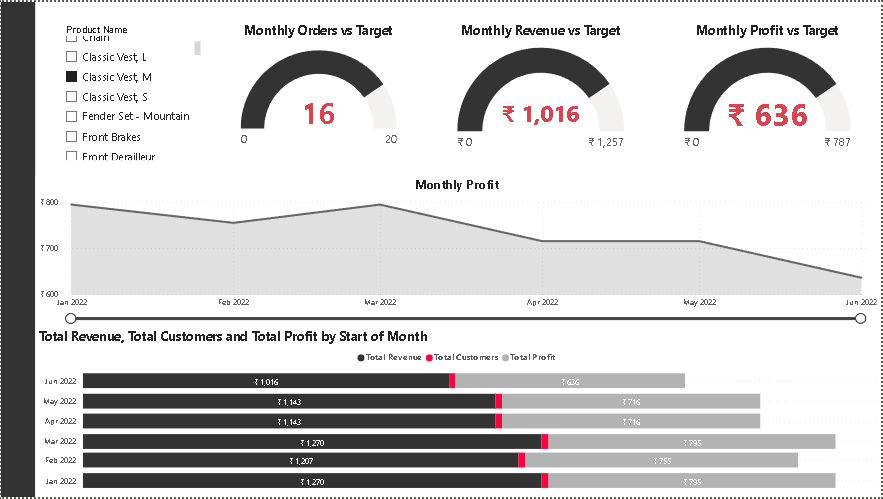

Layout of this report page (visuals, bound fields, positions):
{"tool":"powerbi","page":{"name":"Product Detail","canvas":[1280,720],"ordinal":2},"visuals":[{"type":"shape","box":[0,0,50,720],"z":0},{"type":"slicer","fields":{"Values":["Product Lookup.ProductName"]},"box":[81.5,26,213.2,208],"z":1},{"type":"gauge","title":"Monthly Orders vs Target","fields":{"Y":["Measure Table.Total Order"],"MaxValue":["Measure Table.Order Target"]},"box":[343.2,26,237.5,206.3],"z":2},{"type":"gauge","title":"Monthly Profit vs Target","fields":{"Y":["Measure Table.Total Profit"],"MaxValue":["Measure Table.Profit Target"]},"box":[988.1,26,253.1,206.3],"z":3},{"type":"gauge","title":"Monthly Revenue vs Target","fields":{"Y":["Measure Table.Total Revenue"],"MaxValue":["Measure Table.Revenue Target"]},"box":[657.8,26,253.1,206.3],"z":4},{"type":"areaChart","title":"Monthly Profit","fields":{"Category":["Calendar Lookup.Start of Month"],"Y":["Measure Table.Total Profit"]},"box":[50.3,251.3,1229,220.1],"z":5},{"type":"barChart","fields":{"Y":["Measure Table.Total Revenue","Measure Table.Total Customers","Measure Table.Total Profit"],"Category":["Calendar Lookup.Start of Month"]},"box":[50,471,1229,249],"z":6}]}

Visuals, with their boxes in screenshot pixels (x1, y1, x2, y2), scaled from the page's 1280x720 canvas onto the 883x499 screenshot:
shape: [0,0,34,498]
slicer - Product Lookup.ProductName: [56,18,203,162]
"Monthly Orders vs Target" gauge: [237,18,401,161]
"Monthly Profit vs Target" gauge: [682,18,856,161]
"Monthly Revenue vs Target" gauge: [454,18,628,161]
"Monthly Profit" areaChart: [35,174,882,327]
barChart - Measure Table.Total Revenue x Measure Table.Total Customers: [34,326,882,498]
